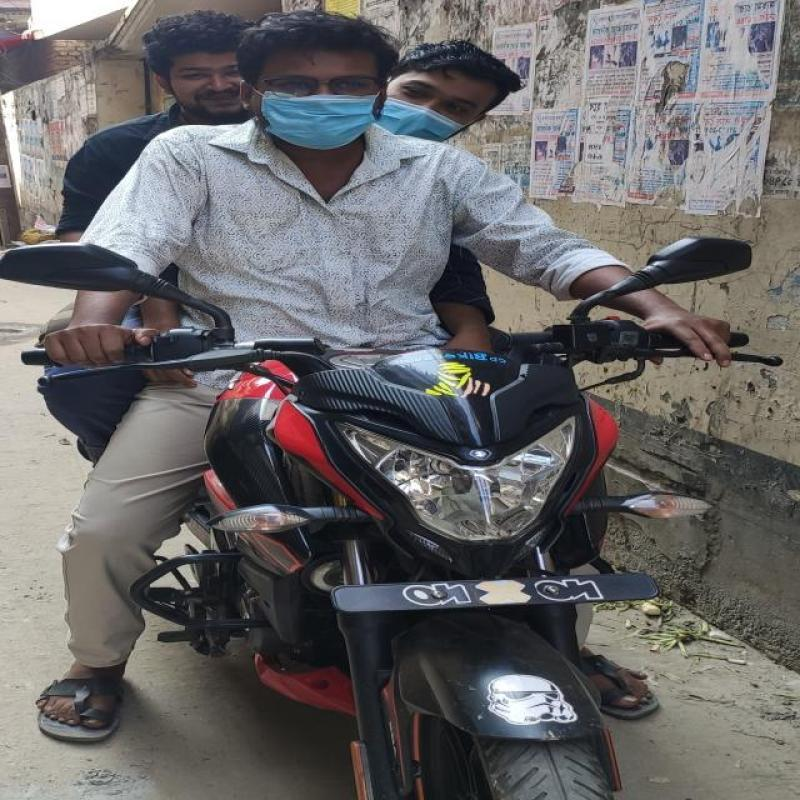nohelmet: (241, 16, 409, 148), (372, 36, 530, 146), (129, 7, 240, 123)
